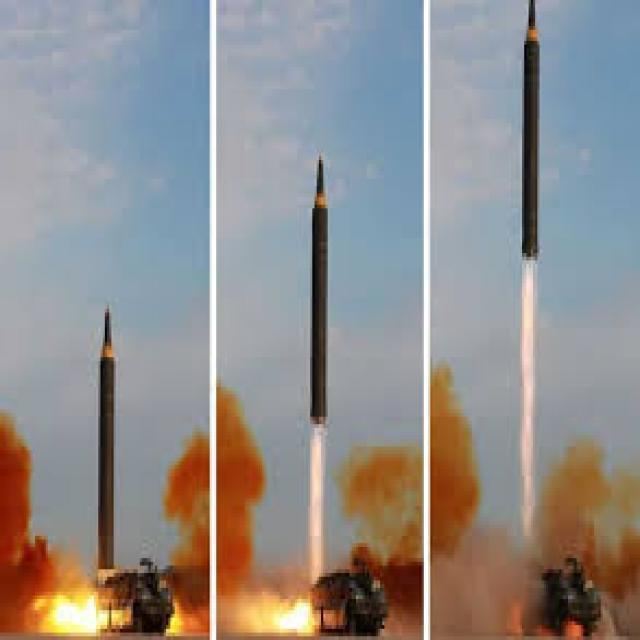Missile: (301, 135, 335, 431), (91, 293, 123, 603), (517, 0, 544, 264)
